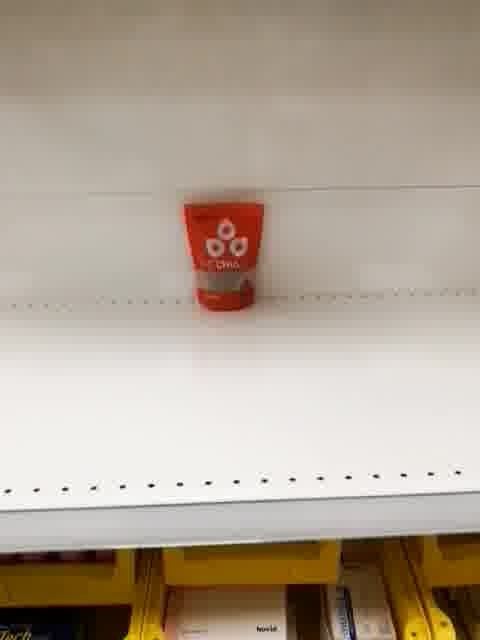whitechia: (181, 199, 266, 314)
